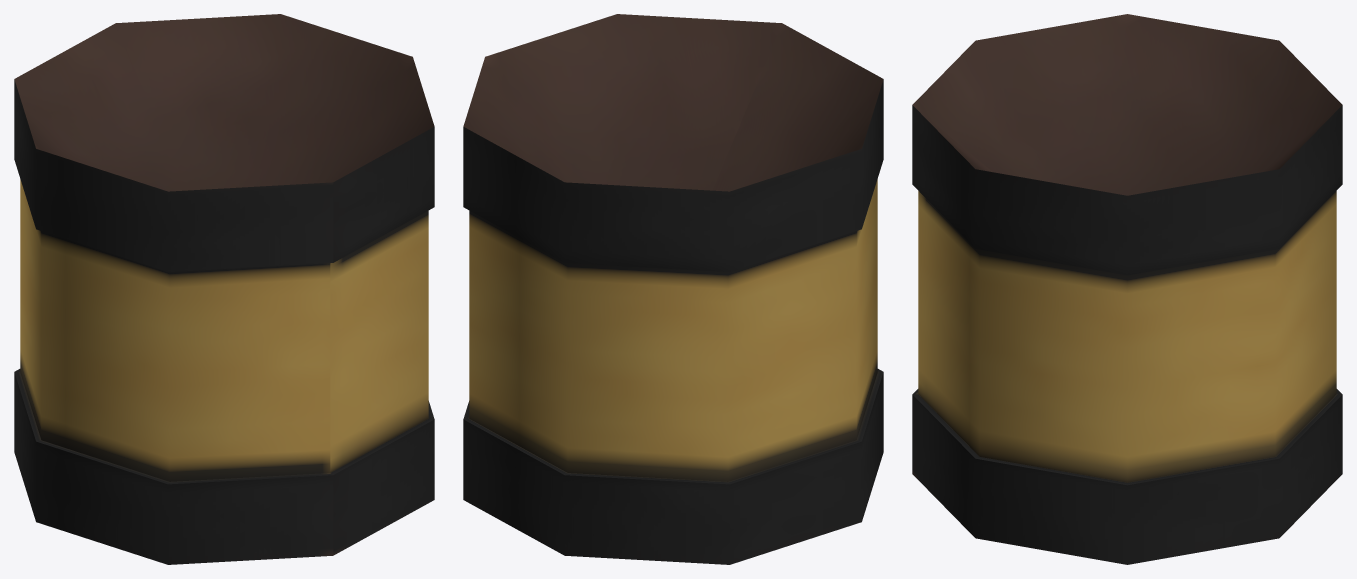
File: Pipe_Straight_125mm.obj
3 views of the same model, side by side, from view 1: azimuth 30°, elevation 25°; view 2: azimuth 150°, elevation 25°; view 3: azimuth 270°, elevation 25° (orthographic).
Visible parts, largest first — view 1: Pipe_Straight_125mm; view 2: Pipe_Straight_125mm; view 3: Pipe_Straight_125mm.
Part boxes in pixels (x1,y1,x2,y2): Pipe_Straight_125mm: (14,14,434,564); Pipe_Straight_125mm: (463,14,883,564); Pipe_Straight_125mm: (912,14,1342,564).
Bounding box in the file's own units: 0.132 × 0.125 × 0.132.
Materials: 1 (1 with a texture image).
